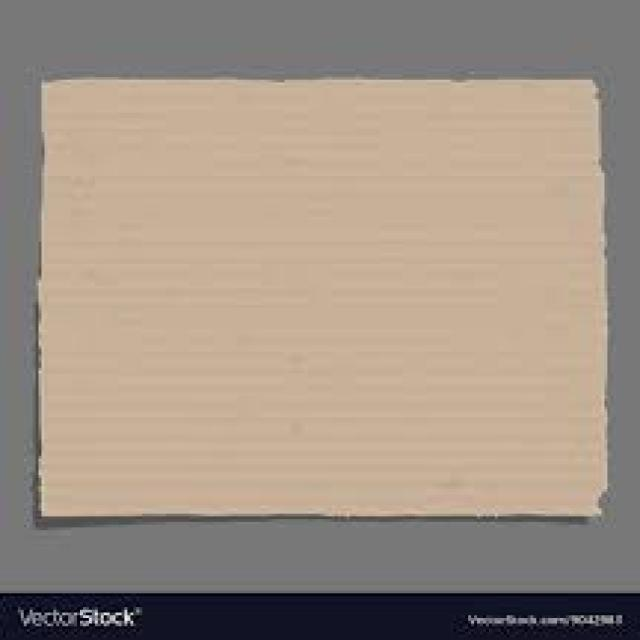cardboard: (30, 74, 608, 519)
